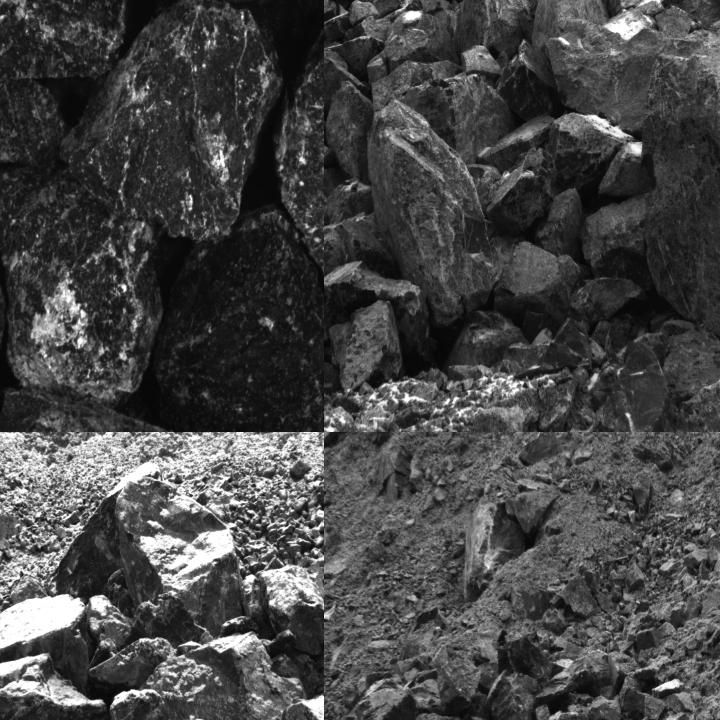stone: (62, 3, 280, 241), (150, 203, 323, 431), (0, 163, 159, 396), (362, 102, 494, 316), (643, 2, 719, 369), (114, 479, 245, 640), (279, 0, 323, 332), (550, 6, 663, 134), (157, 633, 298, 719), (0, 19, 67, 176), (0, 0, 128, 81), (45, 480, 131, 598), (0, 388, 234, 431), (0, 589, 89, 684), (494, 244, 582, 340), (597, 335, 676, 431), (544, 113, 636, 192), (329, 300, 404, 393), (0, 655, 108, 719), (463, 502, 527, 600), (486, 148, 554, 238), (257, 561, 323, 651), (498, 43, 559, 119), (455, 0, 533, 58), (384, 14, 460, 71), (328, 82, 372, 180), (531, 0, 610, 51), (90, 638, 178, 683), (134, 590, 202, 648), (480, 117, 555, 168), (571, 277, 647, 324), (498, 636, 564, 688), (537, 654, 610, 701), (538, 187, 582, 258), (661, 381, 719, 431), (85, 592, 135, 644), (488, 671, 541, 719), (354, 678, 415, 719), (438, 658, 481, 714), (107, 687, 162, 719), (558, 577, 599, 615), (619, 686, 666, 719), (324, 45, 346, 114), (588, 694, 624, 719), (635, 626, 663, 650), (542, 608, 566, 632), (666, 692, 693, 713), (681, 596, 701, 623), (626, 564, 645, 592), (682, 549, 710, 568), (415, 714, 464, 719)
